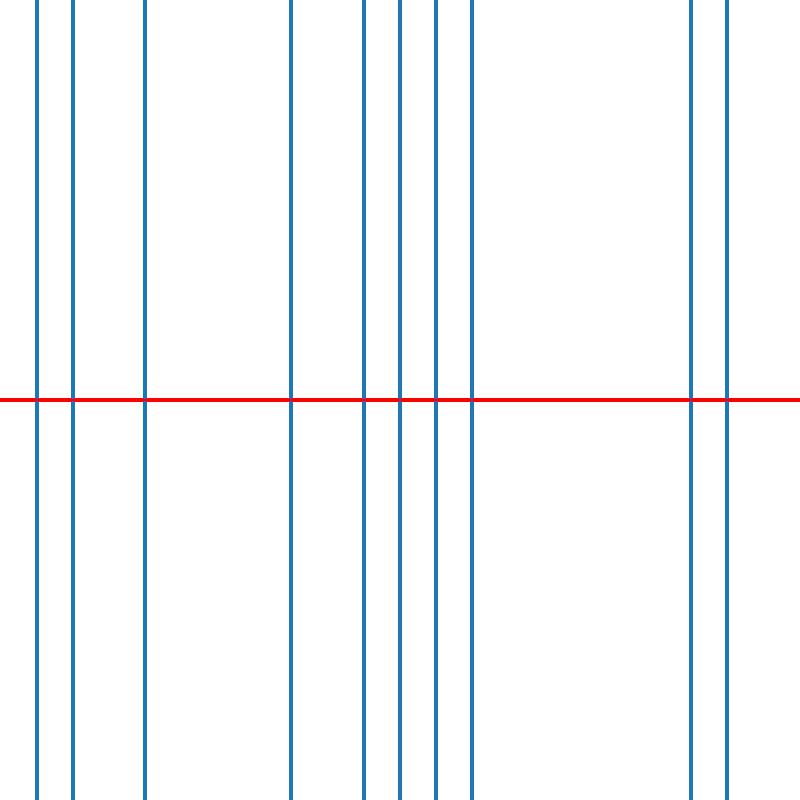root: (32, 396, 40, 404), (141, 396, 149, 404), (432, 396, 440, 404), (396, 396, 403, 404), (69, 396, 76, 404), (723, 396, 730, 404), (360, 396, 367, 404), (287, 396, 294, 404), (469, 396, 476, 404), (687, 396, 694, 404)
